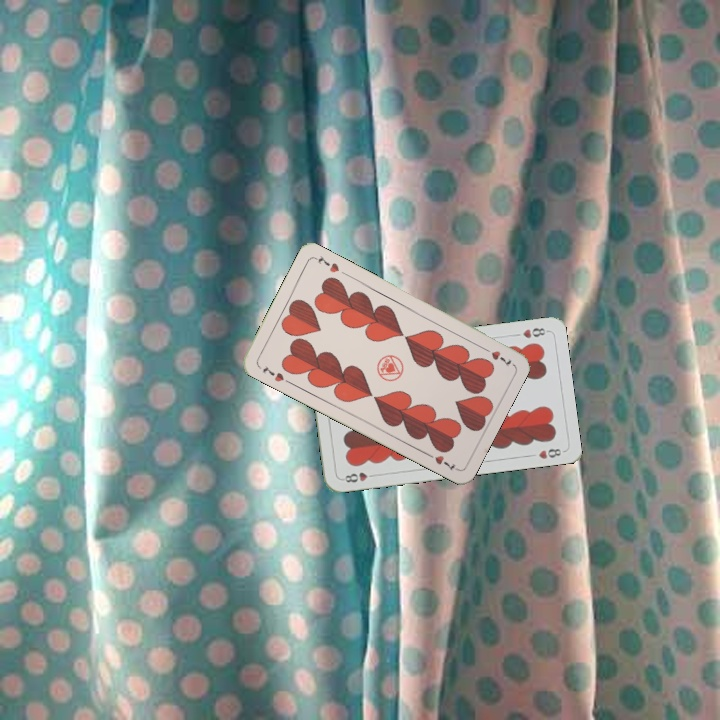H7: (478, 342, 514, 369), (258, 362, 287, 384)
H8: (338, 468, 379, 485), (519, 324, 550, 341)
